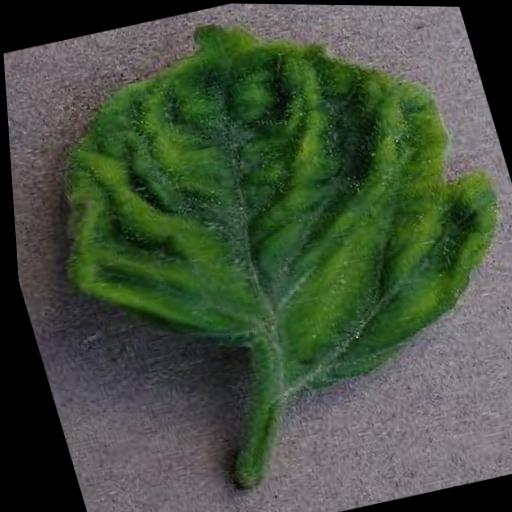Yellow Leaf Curl Virus: (4, 0, 512, 438)
